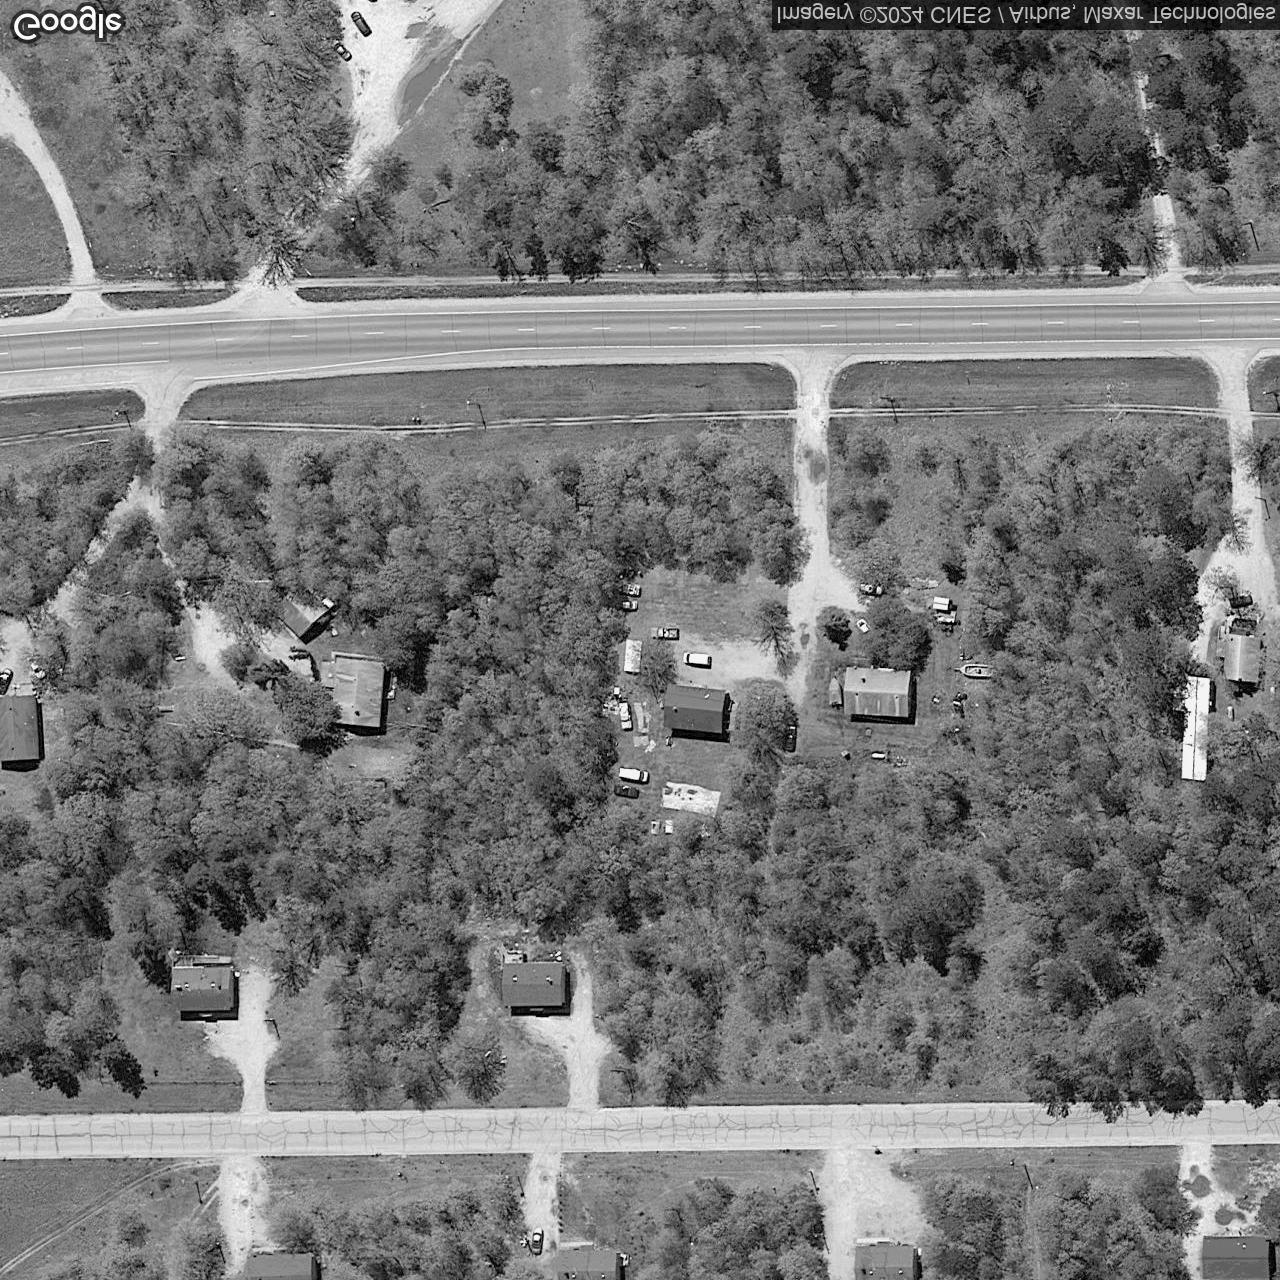Garage: (267, 576, 336, 641), (1221, 632, 1261, 685)
House: (316, 655, 387, 729), (843, 666, 913, 720), (662, 683, 728, 736), (499, 961, 568, 1008), (1200, 1237, 1272, 1279), (170, 967, 234, 1013), (853, 1245, 918, 1279), (557, 1248, 620, 1280), (246, 1253, 320, 1279)
Propane: (1225, 704, 1237, 723), (871, 750, 886, 761)
Trailer: (1179, 674, 1212, 783)
